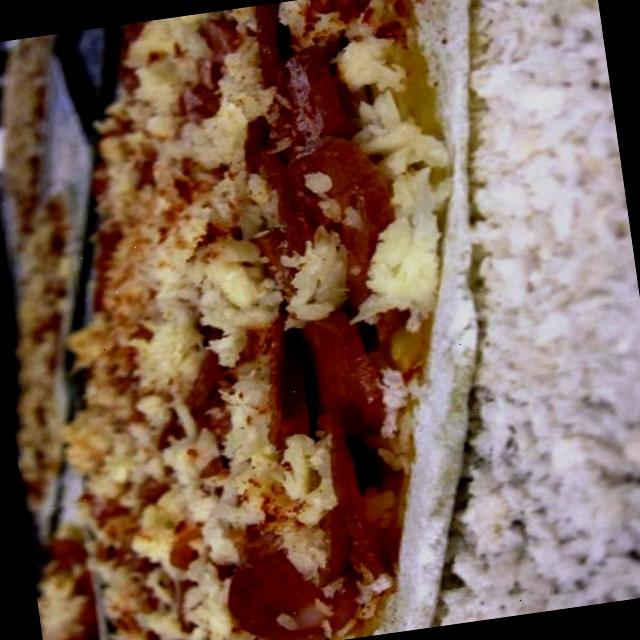pepperoni: (232, 128, 418, 304), (236, 304, 392, 454), (302, 409, 408, 602), (212, 504, 345, 640), (228, 9, 348, 158), (150, 9, 262, 126), (156, 331, 244, 426)
pizza: (76, 0, 480, 640), (18, 194, 71, 510), (2, 35, 55, 237), (39, 526, 97, 640)
